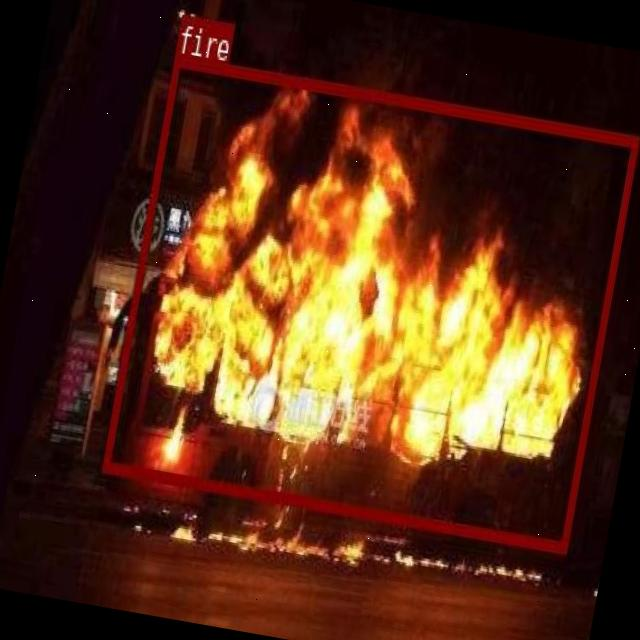fire: (102, 53, 638, 552)
